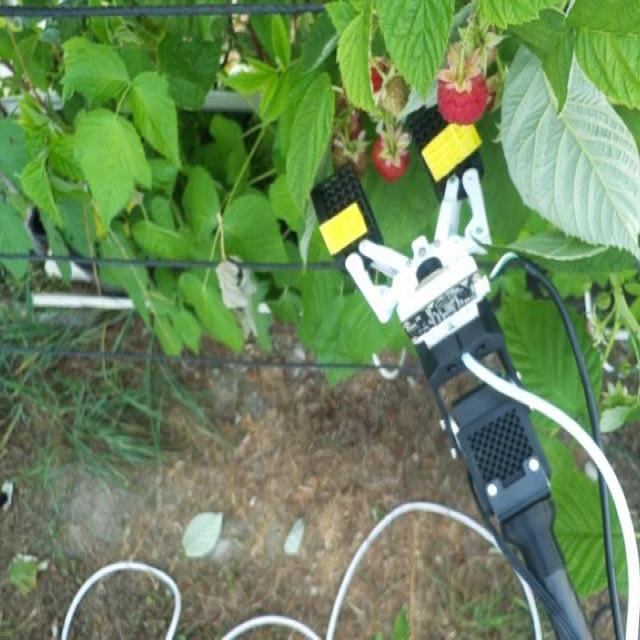Riped berries: (432, 56, 490, 126), (369, 124, 412, 184), (362, 54, 390, 92)
